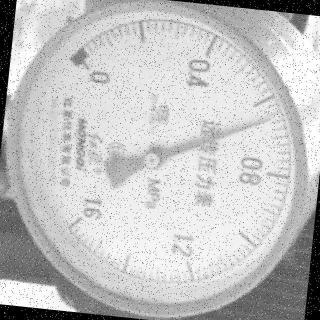gauge: (0, 0, 320, 320), (63, 191, 102, 241), (56, 44, 102, 79), (139, 147, 163, 171), (260, 113, 276, 127)
